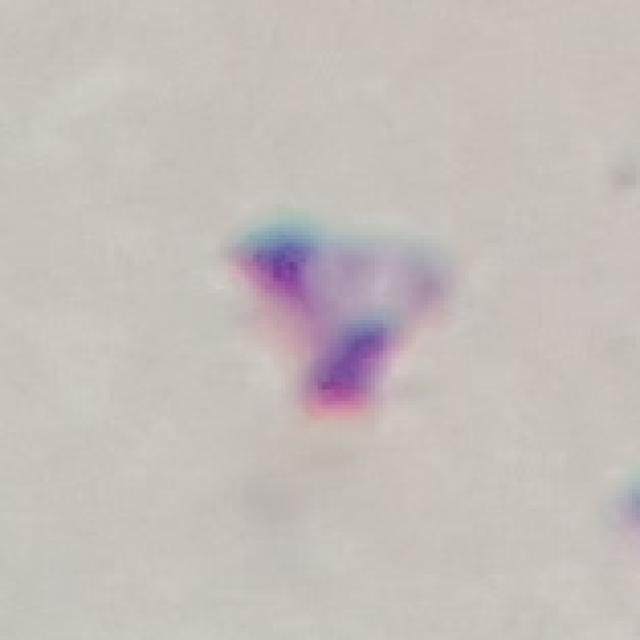non-sperm: (227, 224, 462, 427)
